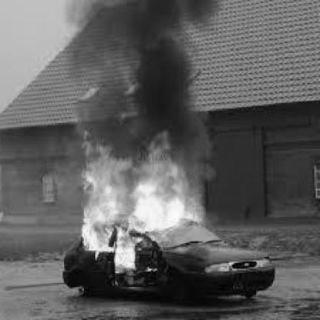Fire: (54, 133, 224, 270)
Smoke: (78, 17, 202, 126)
